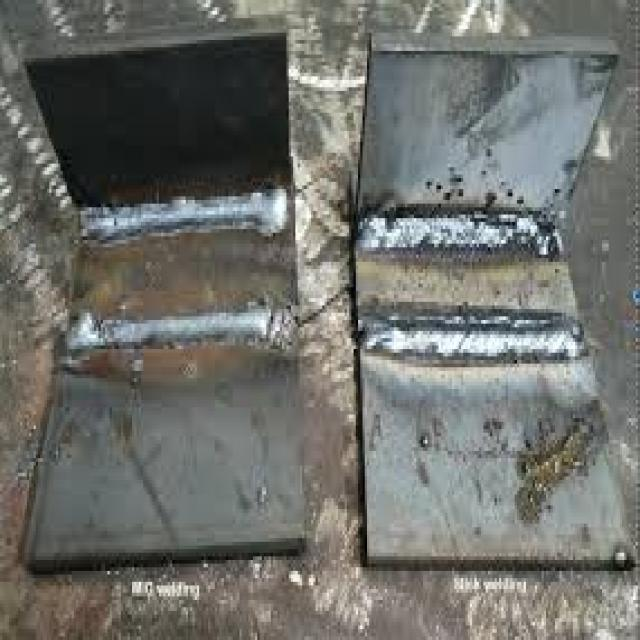Bad Welding: (52, 291, 301, 359), (357, 305, 593, 370)
